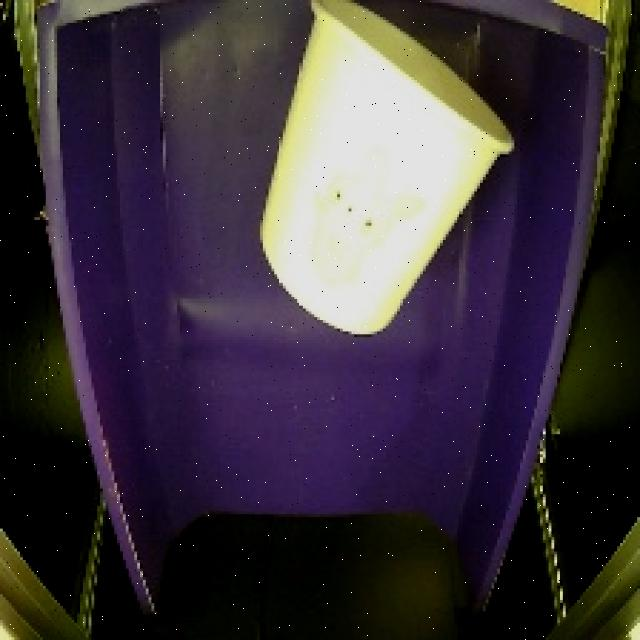cups: (248, 0, 526, 364)
